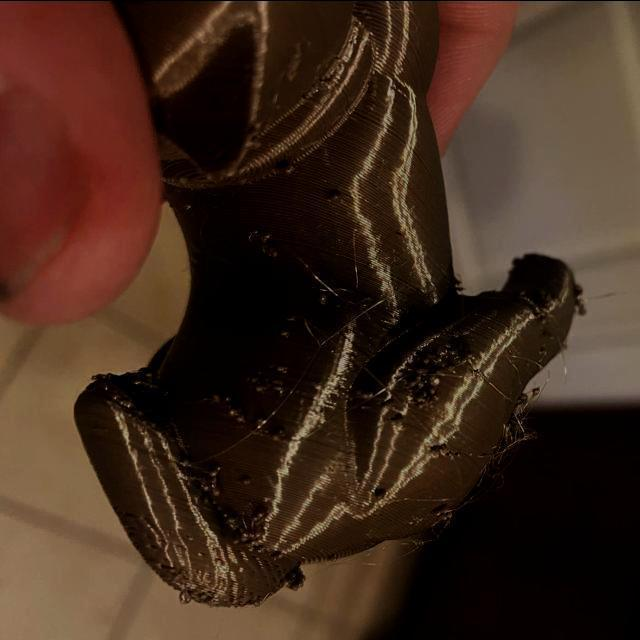zits: (286, 568, 308, 590), (433, 501, 455, 522), (260, 242, 280, 262), (252, 412, 270, 432), (414, 386, 432, 406), (358, 385, 376, 403), (177, 452, 191, 474), (278, 158, 294, 177), (247, 370, 264, 387), (461, 346, 476, 364), (404, 376, 420, 392), (376, 485, 392, 501), (434, 444, 450, 460), (250, 508, 266, 524), (284, 308, 298, 326), (269, 424, 284, 440), (270, 361, 286, 376), (208, 462, 224, 477), (240, 473, 254, 489), (328, 190, 343, 204), (207, 483, 224, 495), (316, 292, 330, 306), (430, 374, 444, 388), (270, 374, 284, 388), (276, 382, 287, 398), (278, 326, 290, 340), (447, 326, 461, 338), (416, 363, 430, 375), (253, 382, 264, 394)
